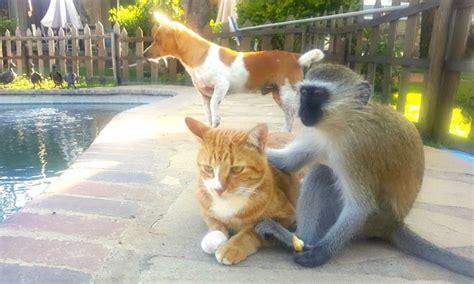cat: (184, 117, 299, 265)
dog: (143, 11, 323, 127)
monkey: (255, 63, 474, 275)
